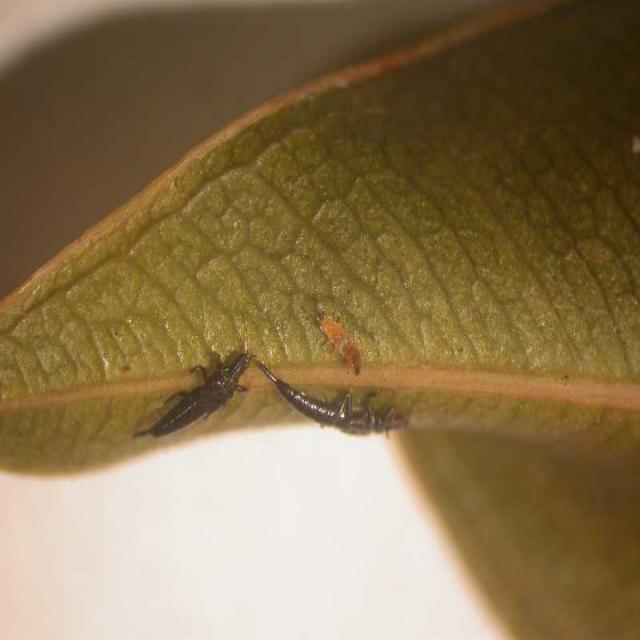Thrip-Adult-: (254, 356, 412, 441), (135, 342, 253, 445)
